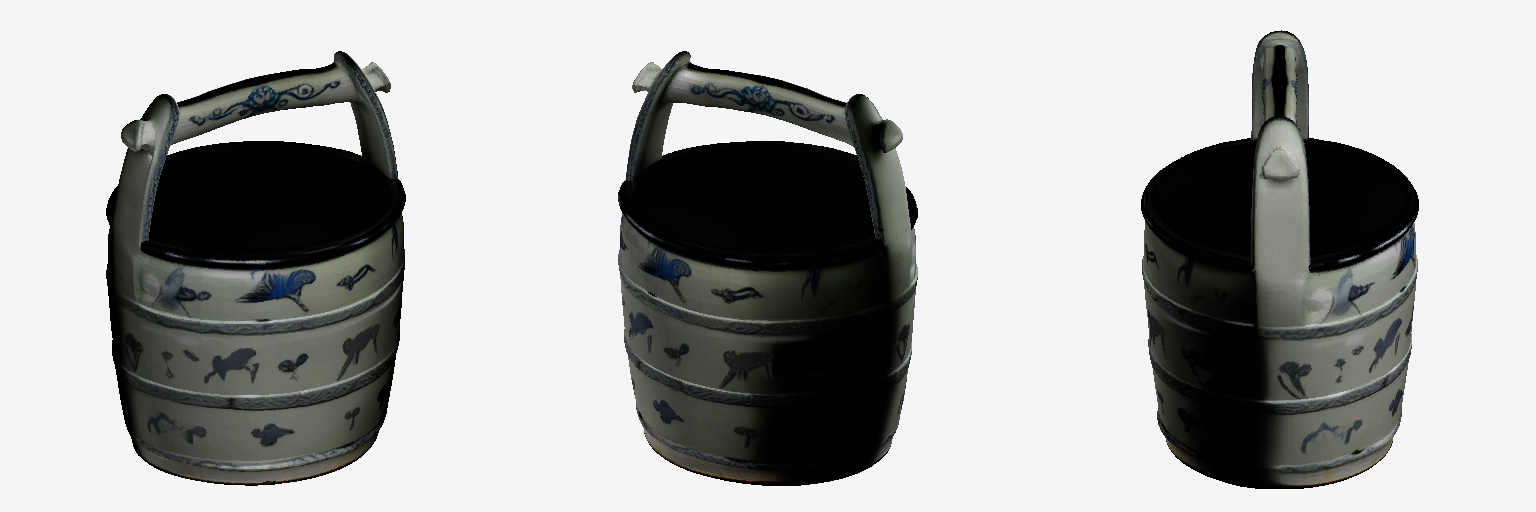
3 views of the same model, side by side, from view 1: azimuth 30°, elevation 25°; view 2: azimuth 150°, elevation 25°; view 3: azimuth 270°, elevation 25° (orthographic).
Visible parts, largest first — view 1: geometry_0; view 2: geometry_0; view 3: geometry_0.
Boxes of the visible parts, box(x1,y1,x2,y2) form: geometry_0: box(106, 51, 405, 485); geometry_0: box(618, 51, 917, 485); geometry_0: box(1141, 30, 1418, 488).
Bounding box in the file's own units: 0.7613 × 0.9899 × 0.6856.
1 materials, 1 textured.